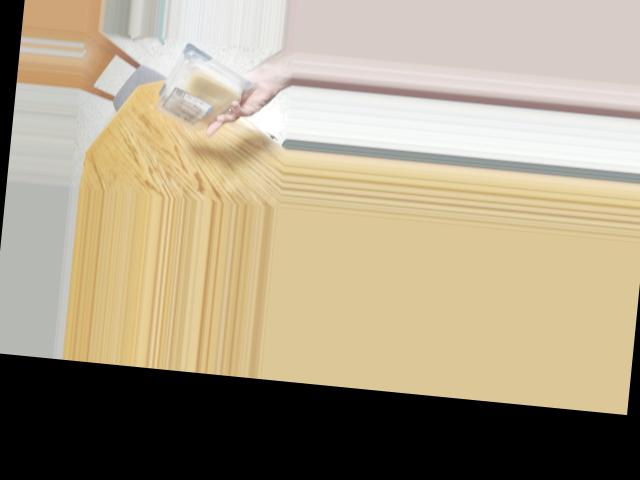cheese: (154, 47, 255, 121)
